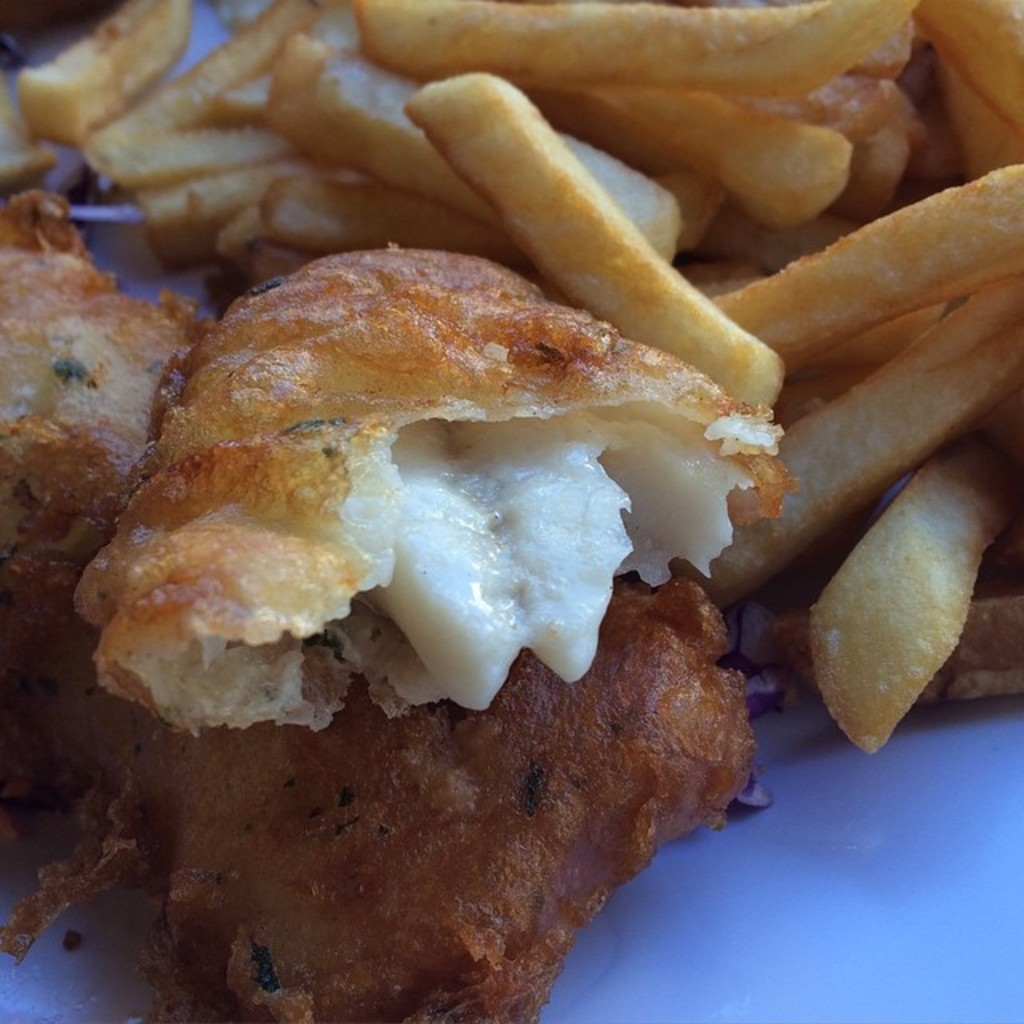French fries: (4, 1, 1022, 745)
